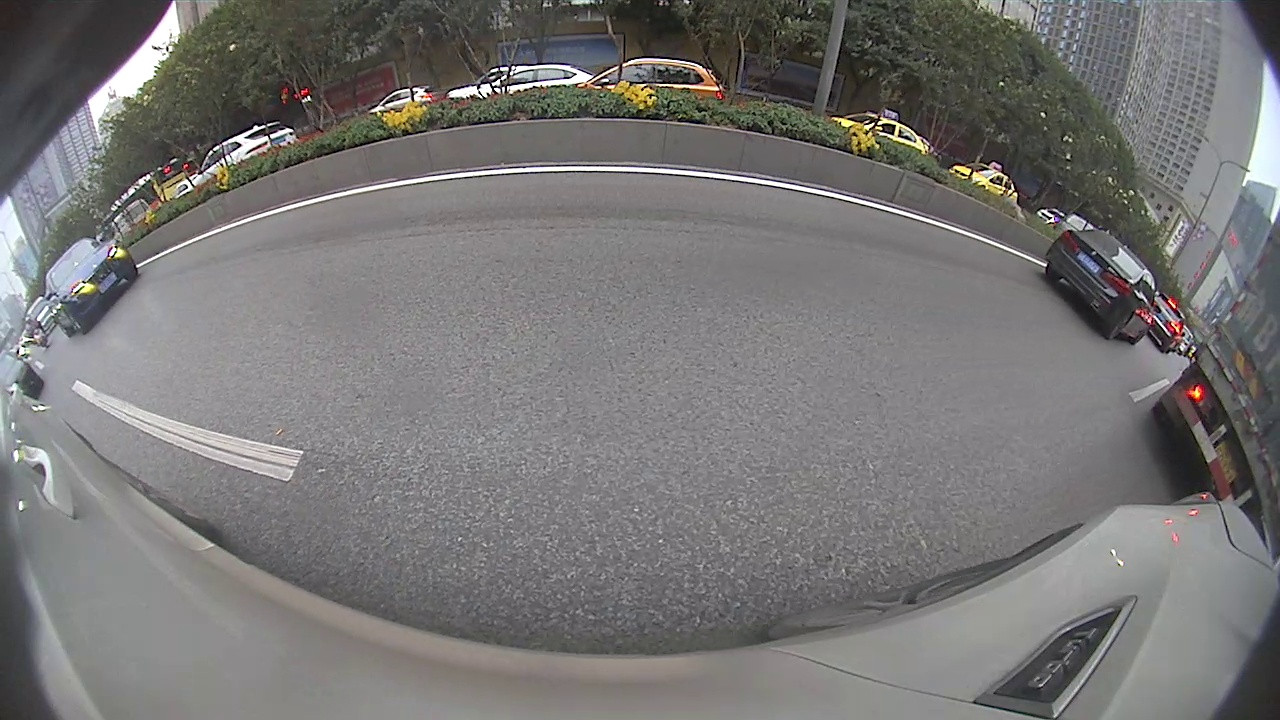car: (1047, 224, 1155, 343), (44, 238, 137, 337), (1143, 288, 1185, 355)
rear: (1106, 308, 1136, 340)
